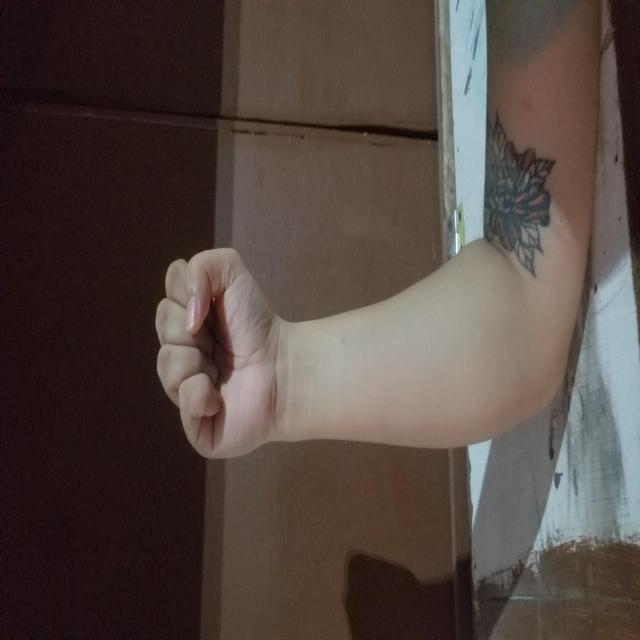S: (179, 154, 396, 271)
